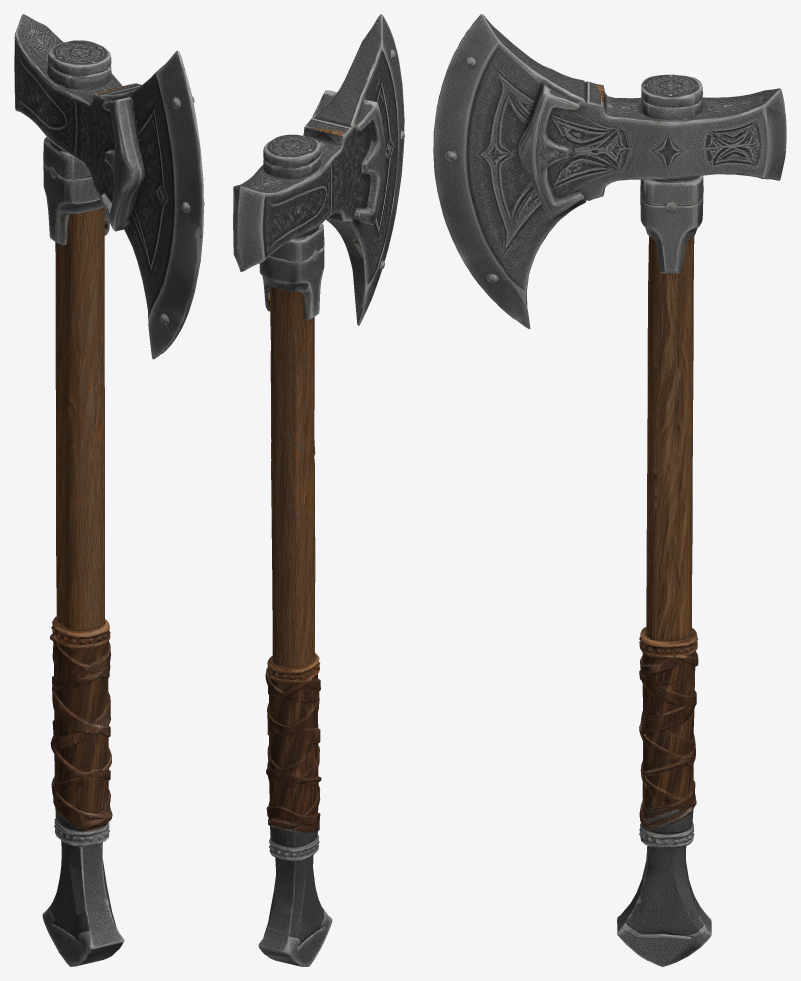
File: battle_axe.fbx
3 renders of one model, left to right at view 1: azimuth 30°, elevation 25°; view 2: azimuth 150°, elevation 25°; view 3: azimuth 270°, elevation 25°, orthographic. The views are drawn at different scales.
Parts seen in each view (by area): view 1: battle_axe; view 2: battle_axe; view 3: battle_axe.
Boxes of the visible parts, left/top/right/bottom form: battle_axe: left=14, top=14, right=204, bottom=966; battle_axe: left=233, top=14, right=404, bottom=966; battle_axe: left=433, top=14, right=786, bottom=966.
Size of the model in its own units: 0.2675 by 4 by 1.35.
Materials: 1 (1 with a texture image).
